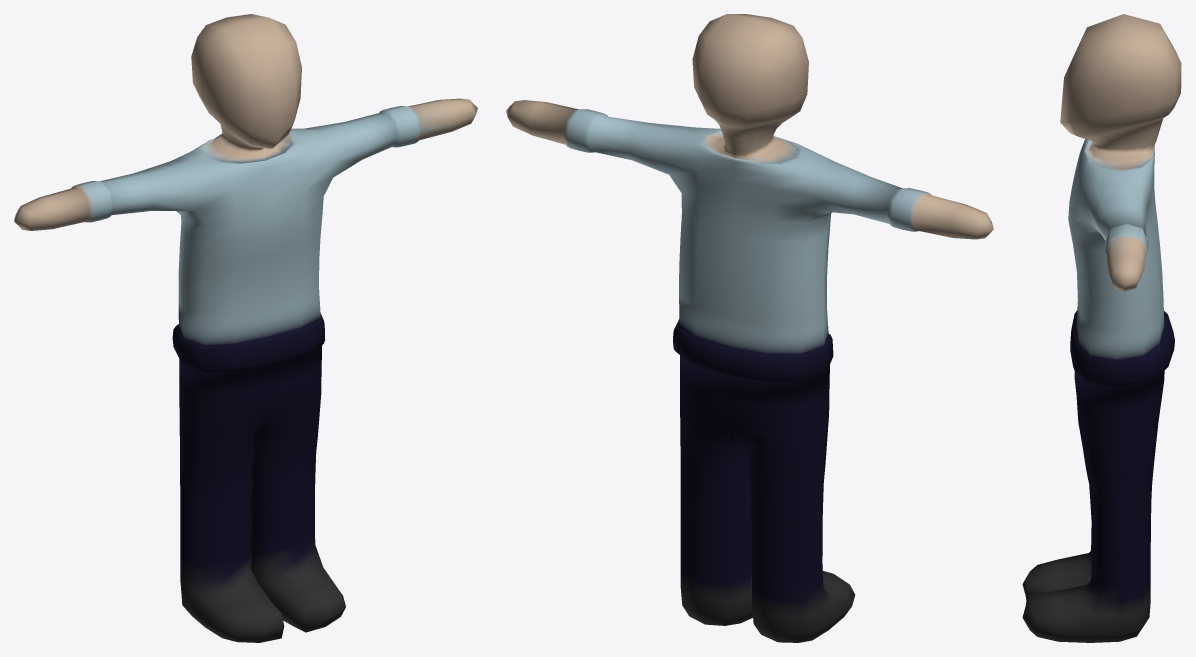
The model's file is player.fbx.
3 renders of one model, left to right at view 1: azimuth 30°, elevation 25°; view 2: azimuth 150°, elevation 25°; view 3: azimuth 270°, elevation 25°, orthographic. The views are drawn at different scales.
Visible parts, largest first — view 1: Cube.001; view 2: Cube.001; view 3: Cube.001.
Part boxes in pixels (<box>): Cube.001: <box>14,14,477,642</box>; Cube.001: <box>506,14,993,642</box>; Cube.001: <box>1022,14,1181,642</box>.
Size of the model in its own units: 163 by 197 by 47.56.
